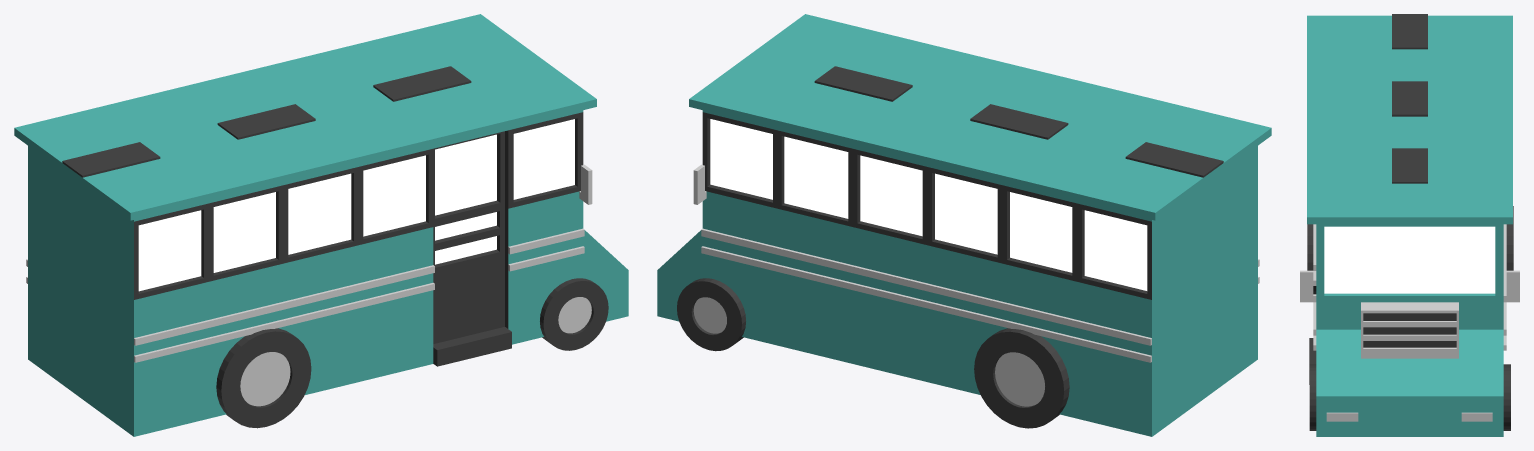
File: Car 1.2.fbx
3 views of the same model, side by side, from view 1: azimuth 30°, elevation 25°; view 2: azimuth 150°, elevation 25°; view 3: azimuth 270°, elevation 25° (orthographic). The views are drawn at different scales.
Visible parts, largest first — view 1: Car_2.002; view 2: Car_2.002; view 3: Car_2.002.
Part boxes in pixels (<box>): Car_2.002: <box>14,14,628,436</box>; Car_2.002: <box>657,14,1271,436</box>; Car_2.002: <box>1300,14,1519,436</box>.
Size of the model in its own units: 768 by 362 by 327.
